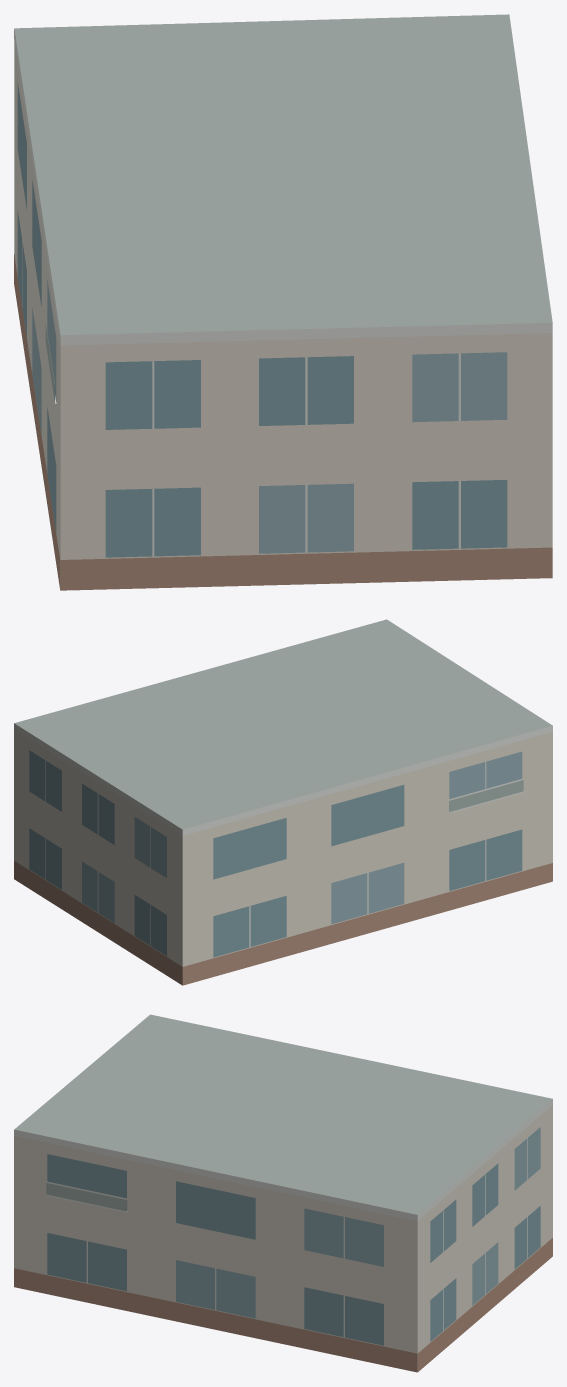
The model's file is survey-upis-32889173.glb.
3 views of the same model, one above another, from view 1: azimuth 30°, elevation 25°; view 2: azimuth 150°, elevation 25°; view 3: azimuth 270°, elevation 25° (orthographic). The views are drawn at different scales.
Visible parts, largest first — view 1: survey-upis-32889173.tmp; view 2: survey-upis-32889173.tmp; view 3: survey-upis-32889173.tmp.
Boxes of the visible parts, x1,y1,x2,y2 form: survey-upis-32889173.tmp: (14, 14, 552, 590); survey-upis-32889173.tmp: (14, 619, 552, 985); survey-upis-32889173.tmp: (14, 1014, 552, 1372).
Bounding box in the file's own units: 16.65 × 6.1 × 18.91.
